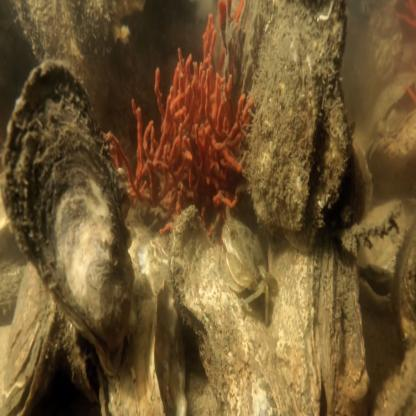Oyster- Indeterminate: (0, 264, 56, 416), (355, 195, 416, 315)
Oyster-Closed: (0, 58, 133, 382), (249, 0, 350, 243), (170, 209, 251, 390)
